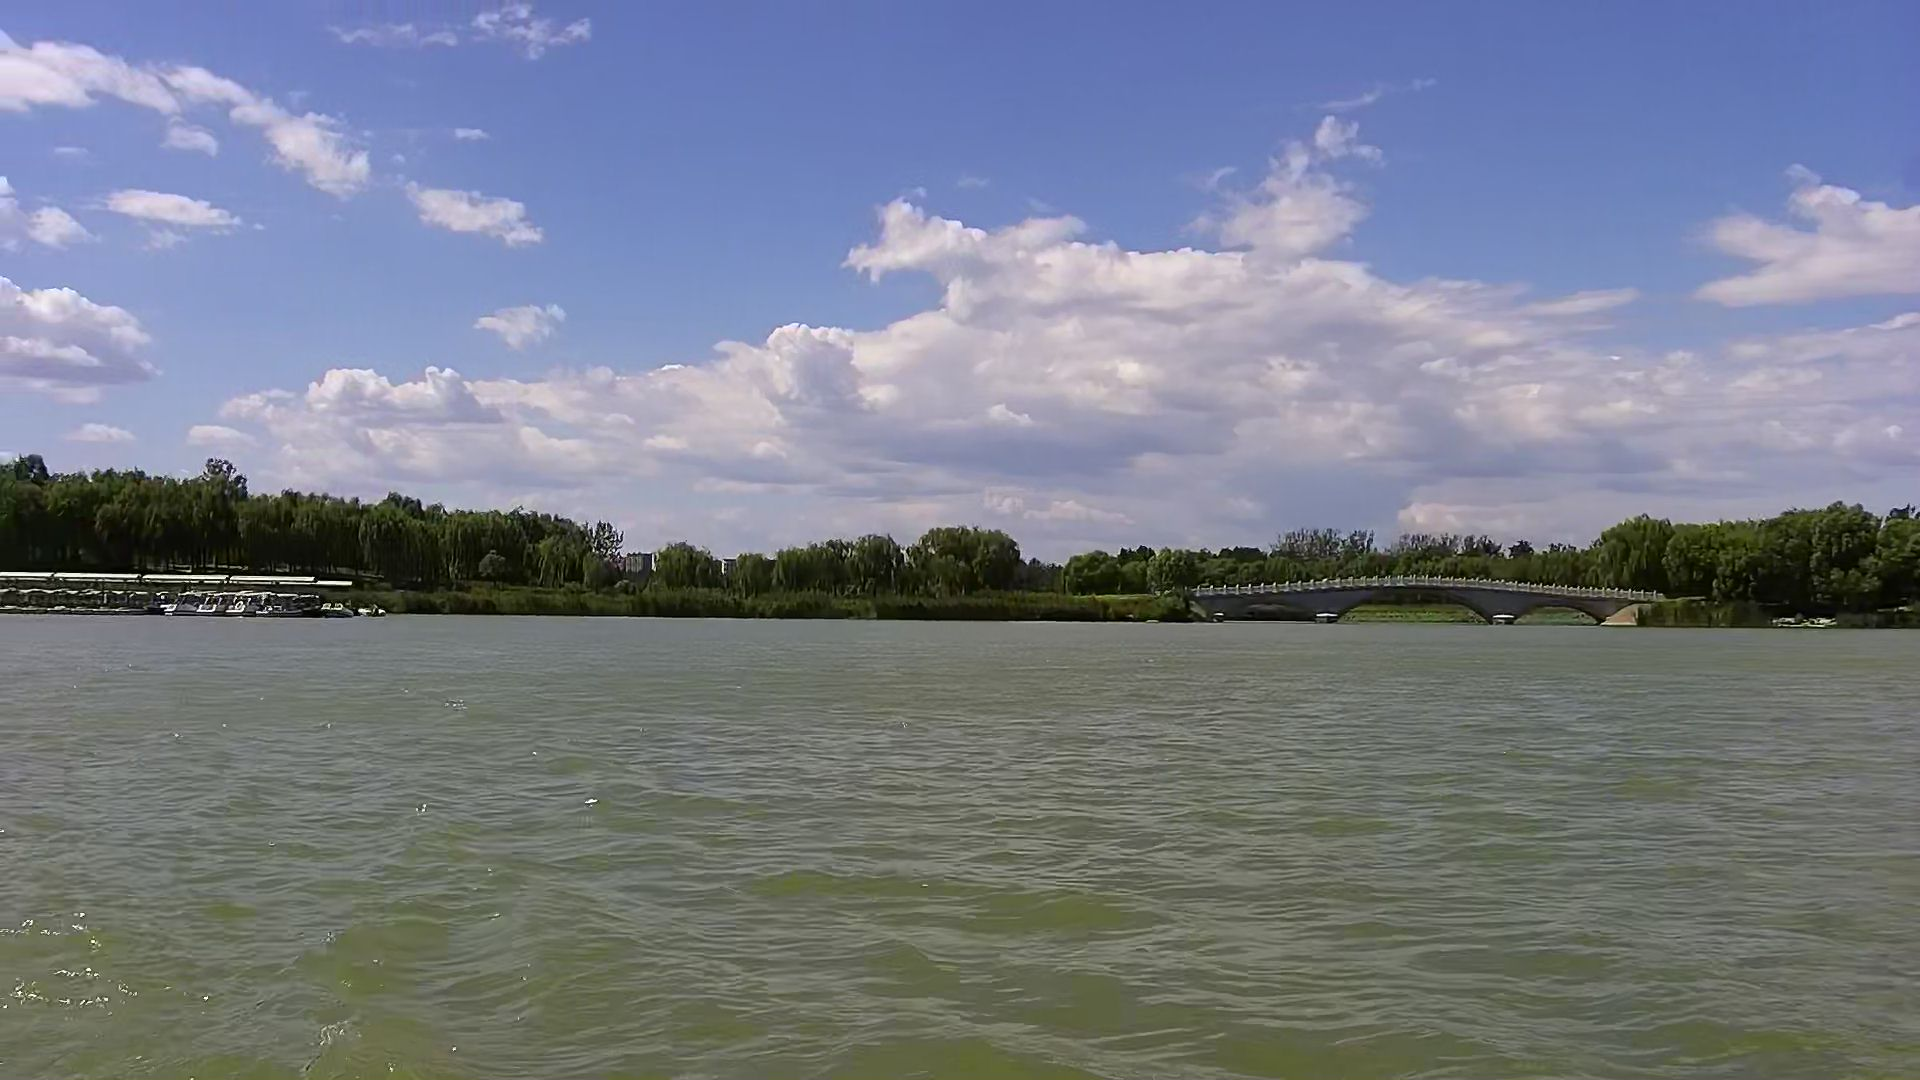bridge: (1187, 568, 1669, 632)
harbor: (1, 570, 367, 622)
